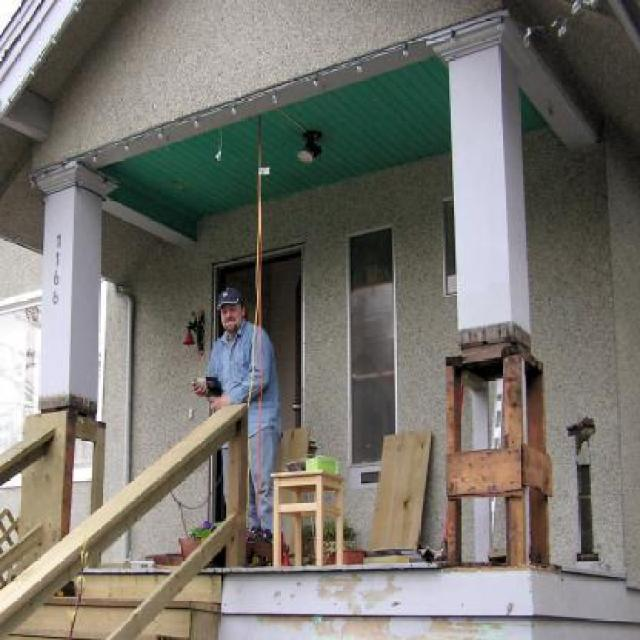Person: (182, 278, 288, 567)
